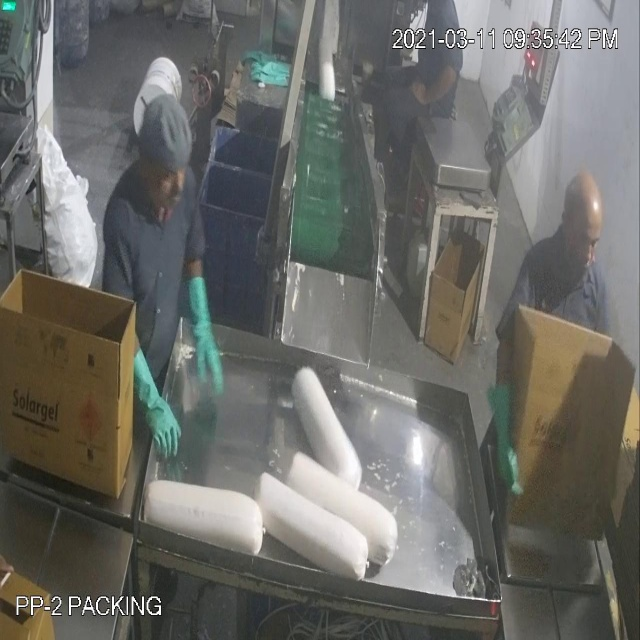Guantes: (184, 265, 241, 418), (125, 334, 183, 475), (485, 359, 526, 514)
Sin_guantes: (407, 53, 464, 120)
